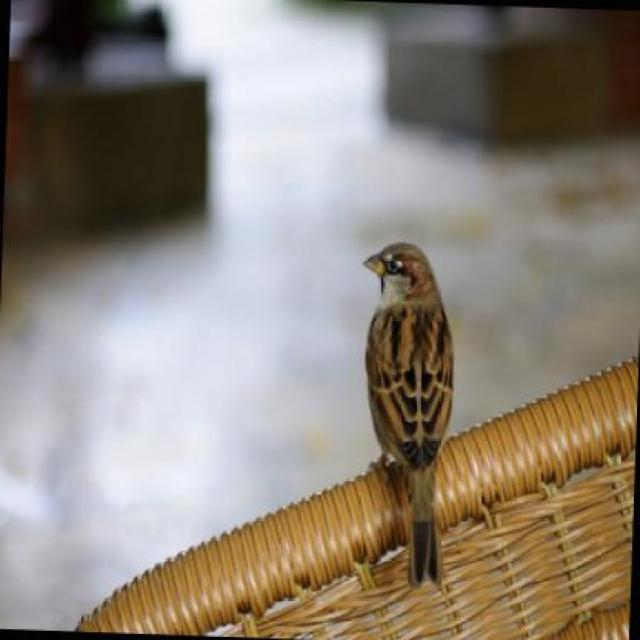sparrow: (355, 239, 459, 590)
